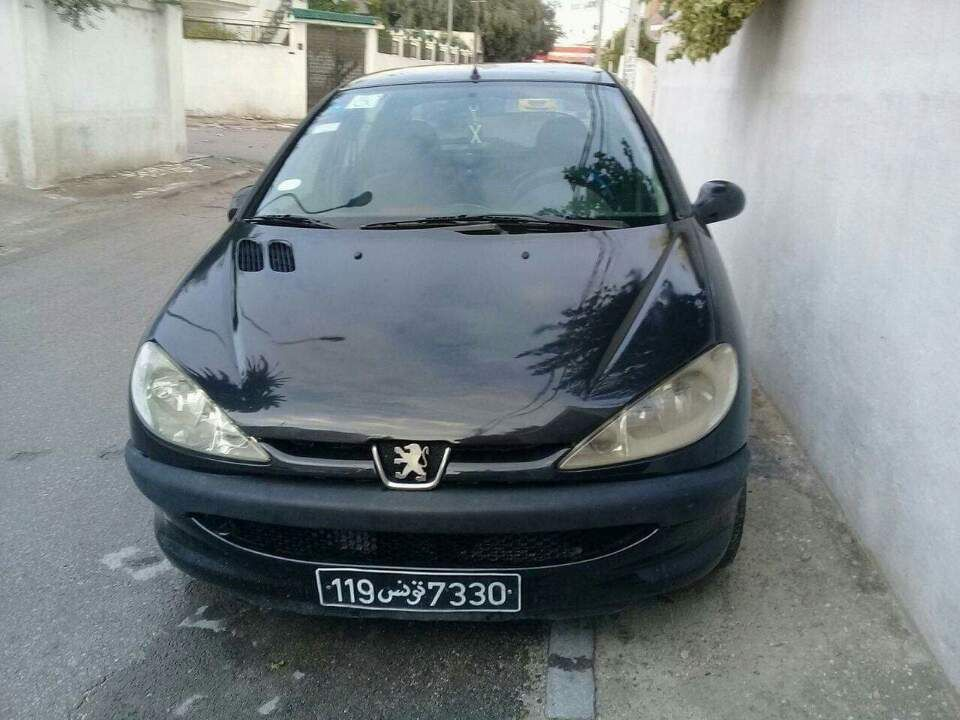LP: (316, 564, 526, 617)
